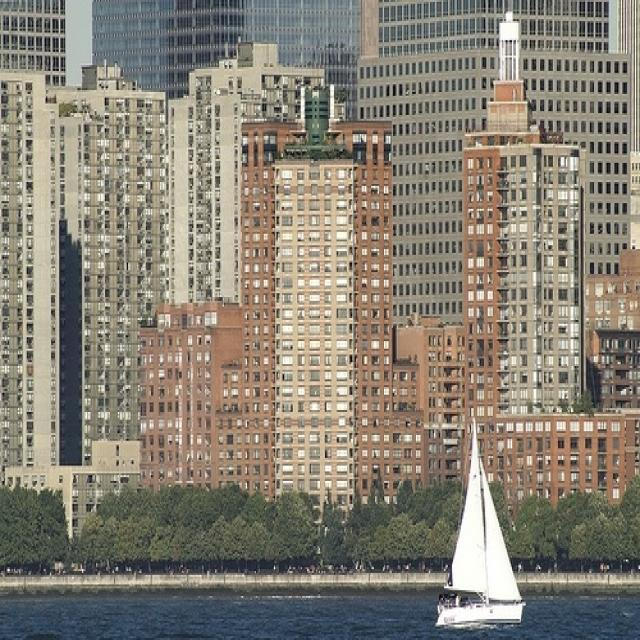Ship: (442, 409, 525, 640)
